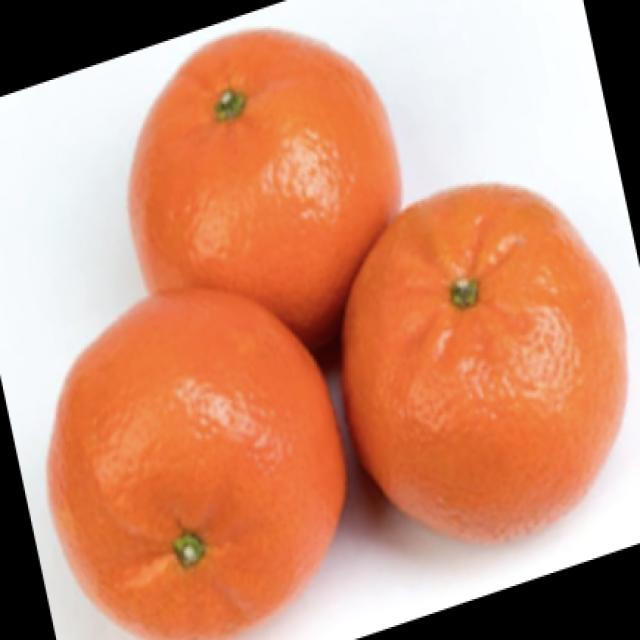matang: (342, 179, 628, 541), (55, 292, 345, 638), (129, 31, 398, 346)
